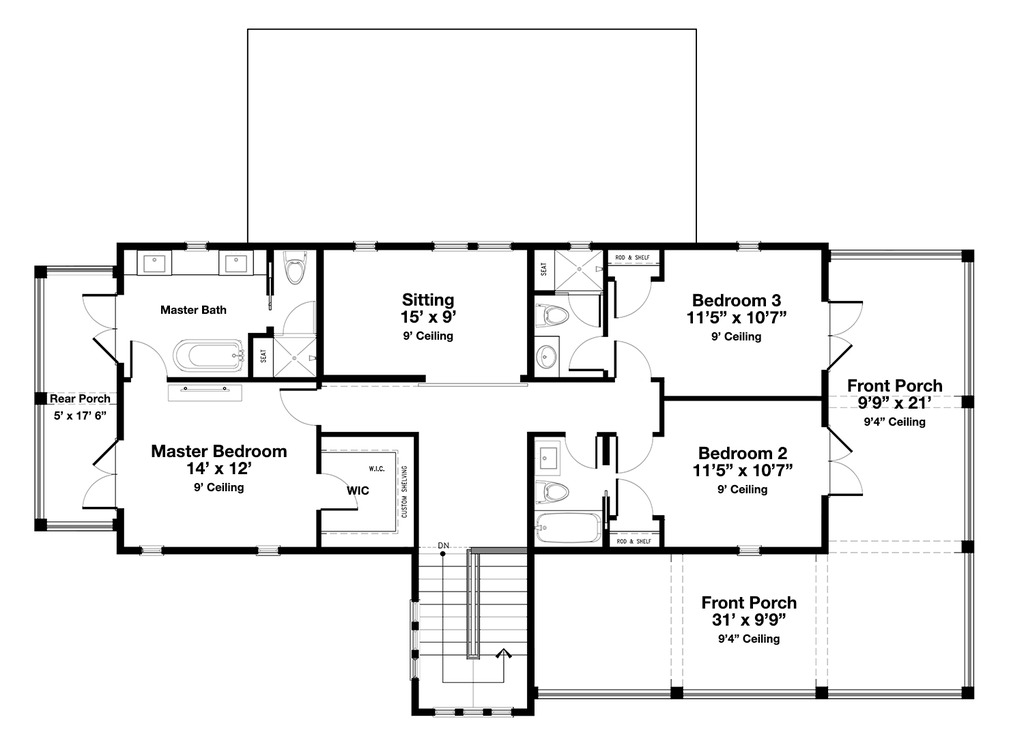door: (821, 422, 865, 499), (79, 289, 122, 363), (78, 439, 122, 509), (826, 293, 864, 374), (125, 334, 169, 384), (312, 467, 357, 514), (611, 337, 656, 383), (611, 433, 658, 475), (612, 477, 658, 519), (276, 385, 318, 429), (567, 333, 608, 378), (613, 276, 651, 318), (567, 292, 606, 332), (280, 300, 314, 337)
large_sink: (532, 300, 576, 334), (276, 249, 309, 287), (528, 481, 570, 507)
small_sink: (532, 337, 561, 378), (215, 249, 258, 276), (532, 441, 561, 477), (134, 252, 173, 274)
stairs: (417, 538, 530, 705)
tub: (167, 336, 245, 380), (535, 505, 599, 549)
windows: (424, 705, 507, 721), (430, 237, 514, 252), (735, 541, 763, 560), (349, 238, 380, 253), (732, 241, 760, 253)
